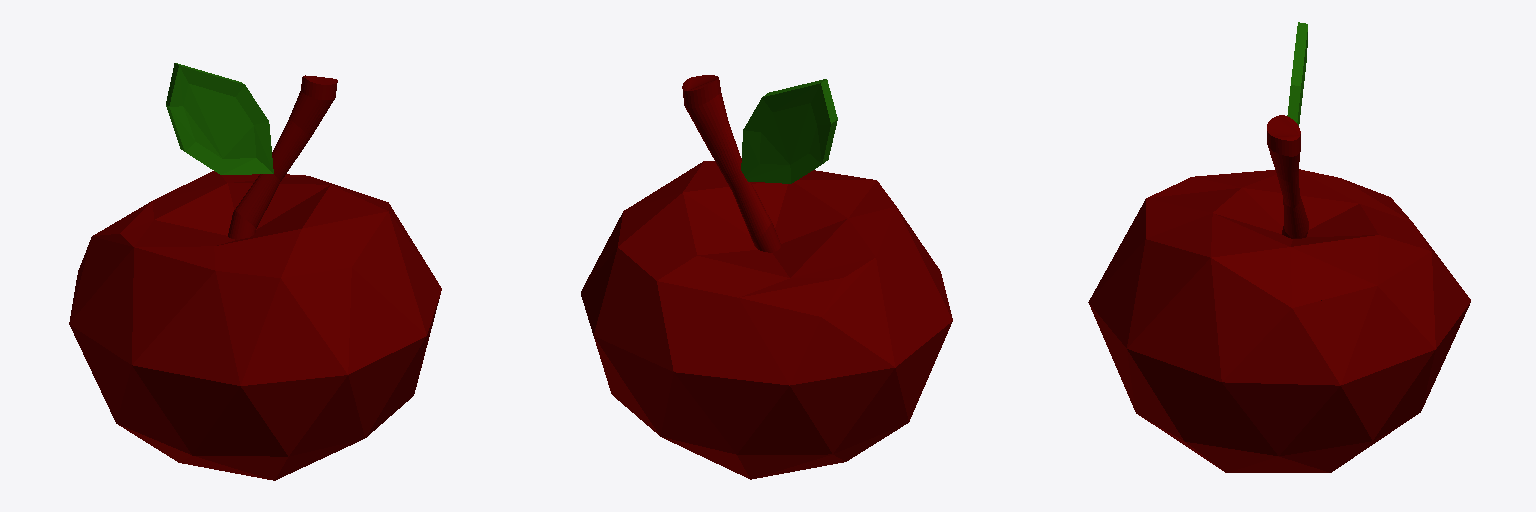
Rendered from APPLE.obj.
3 views of the same model, side by side, from view 1: azimuth 30°, elevation 25°; view 2: azimuth 150°, elevation 25°; view 3: azimuth 270°, elevation 25° (orthographic).
Parts seen in each view (by area): view 1: Circle.001, Circle.002; view 2: Circle.001, Circle.002; view 3: Circle.001, Circle.002.
Boxes of the visible parts, <box> form: Circle.001: <box>69,75,441,480</box>; Circle.002: <box>166,63,273,174</box>; Circle.001: <box>581,75,952,479</box>; Circle.002: <box>741,79,837,183</box>; Circle.001: <box>1088,115,1470,472</box>; Circle.002: <box>1287,22,1307,125</box>.
Bounding box in the file's own units: 2.15 × 2.63 × 2.27.